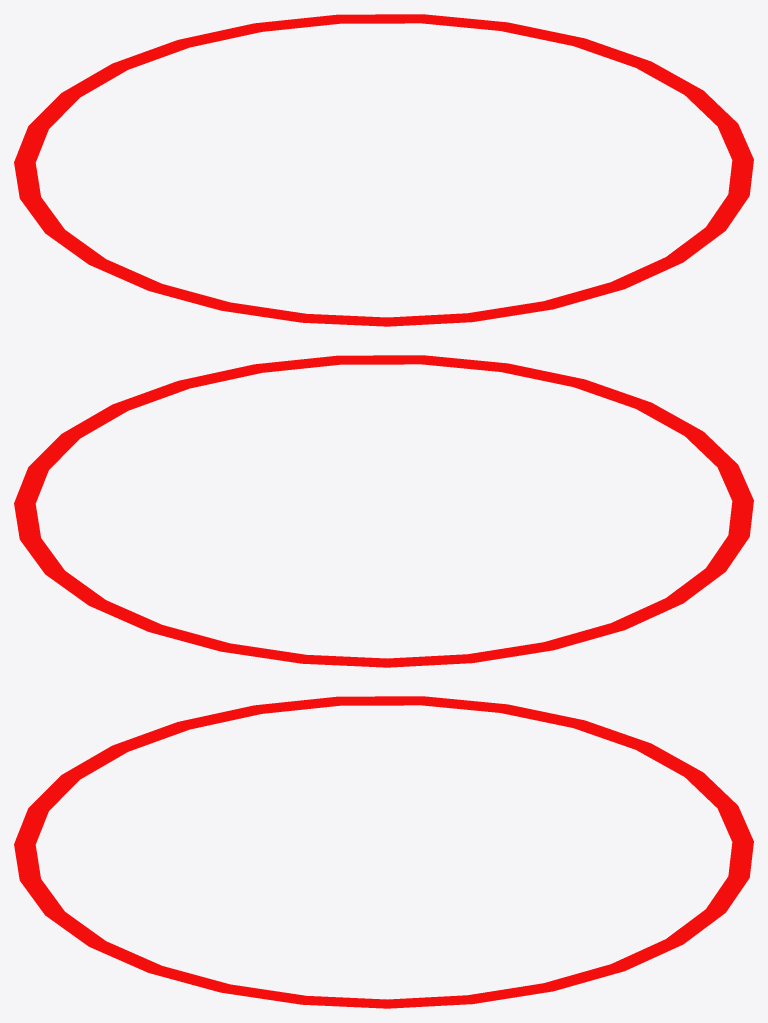
File: Kbascast-833Ring5.gltf
3 renders of one model, top to bottom at view 1: azimuth 30°, elevation 25°; view 2: azimuth 150°, elevation 25°; view 3: azimuth 270°, elevation 25°, orthographic.
Bounding box in the file's own units: 248 × 0 × 248.
